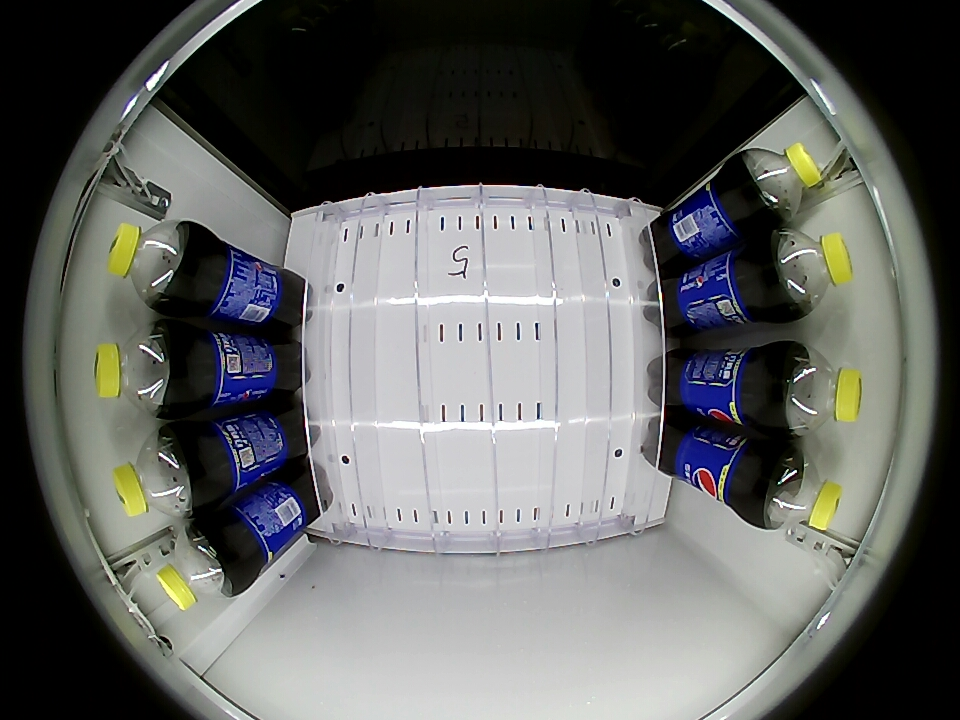baishikele: (107, 220, 193, 308), (113, 427, 196, 518), (781, 343, 863, 435), (94, 322, 174, 416), (156, 523, 239, 610), (760, 446, 843, 533), (772, 229, 854, 316), (743, 143, 822, 220)
